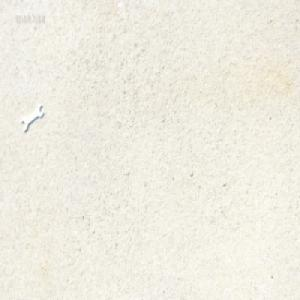Wrench: (21, 99, 44, 131)
